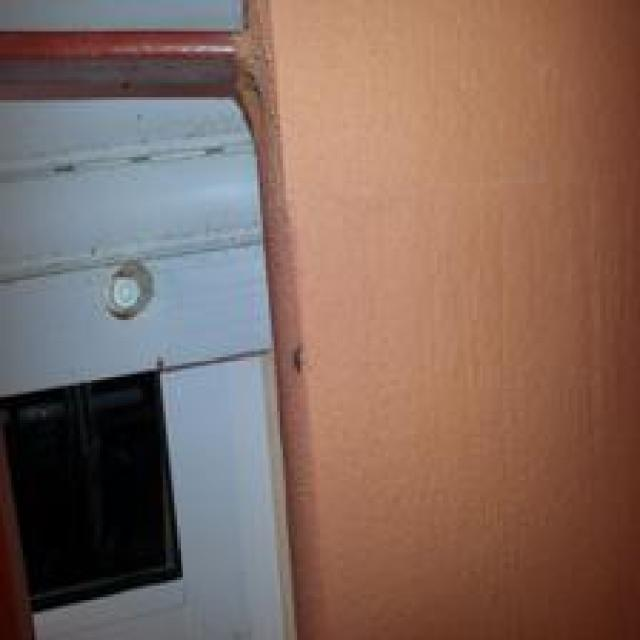Aedes albopictus: (0, 88, 303, 640)
